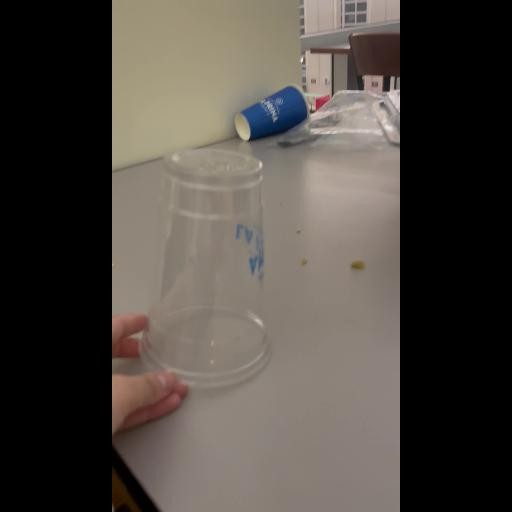lp_paper_cup: (233, 80, 307, 142)
lp_plastic_cup: (138, 145, 268, 393)
